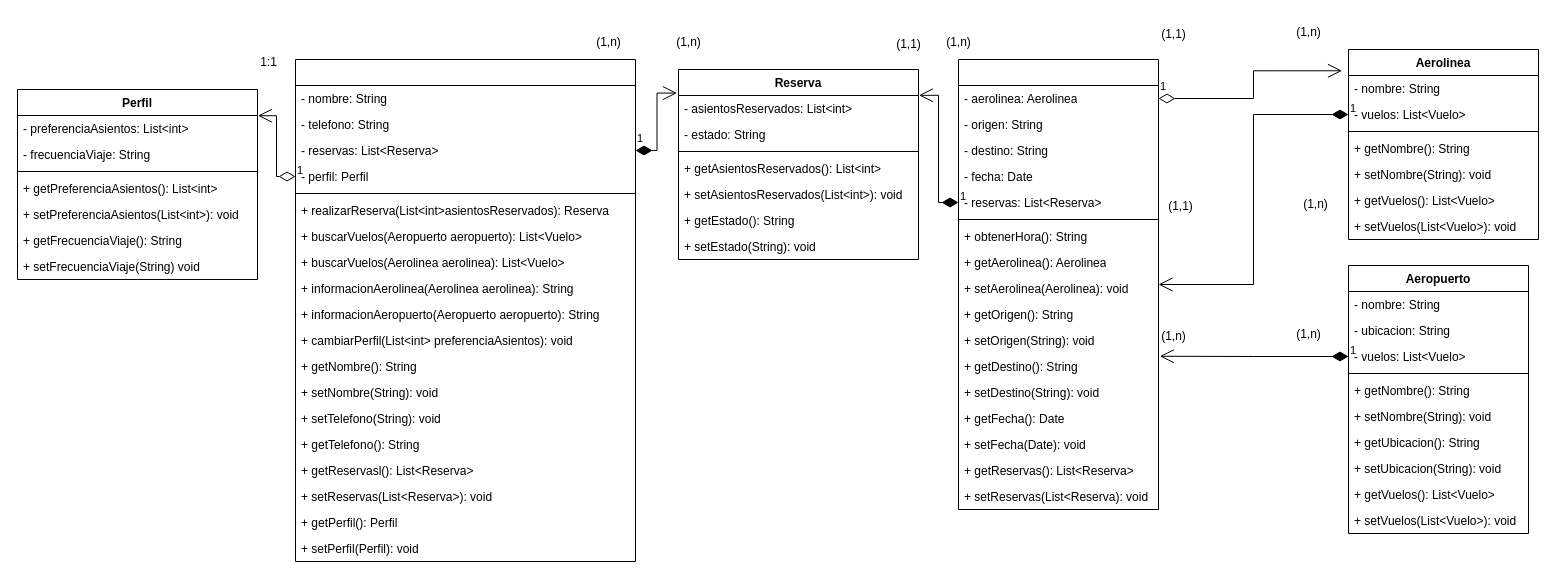
This 1556x581 diagram has some shape labels left out. The box of each missing label's shape, as (x1, y1, x2, y2) in pixels:
Usuario: (294, 58, 636, 562)
Vuelo: (958, 58, 1158, 510)
